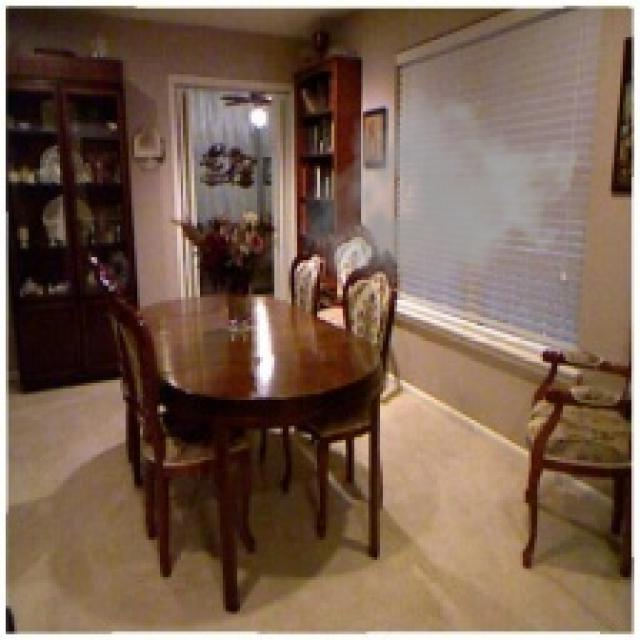smoke: (297, 86, 580, 311)
